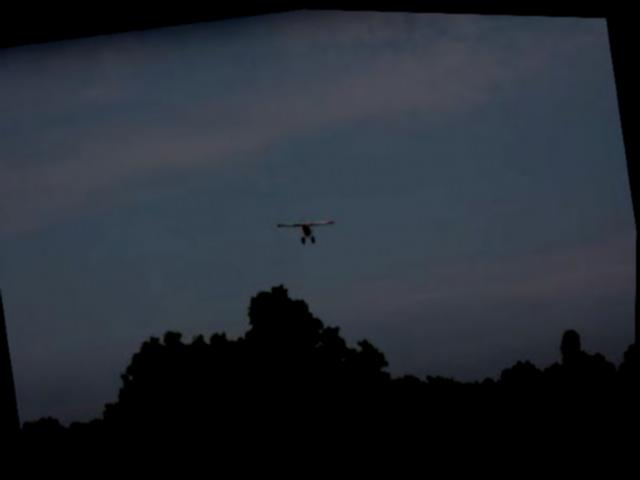uav: (271, 203, 344, 255)
